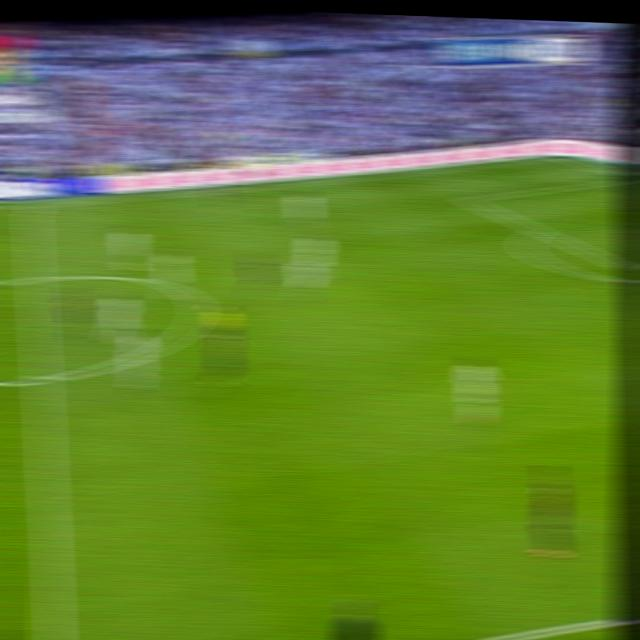bigarea_bottom_outter: (528, 221, 547, 236)
halfcircle_bottom: (27, 362, 55, 395)
halfcircle_top: (22, 263, 48, 292)
midline_top_intersection: (19, 197, 42, 214)
